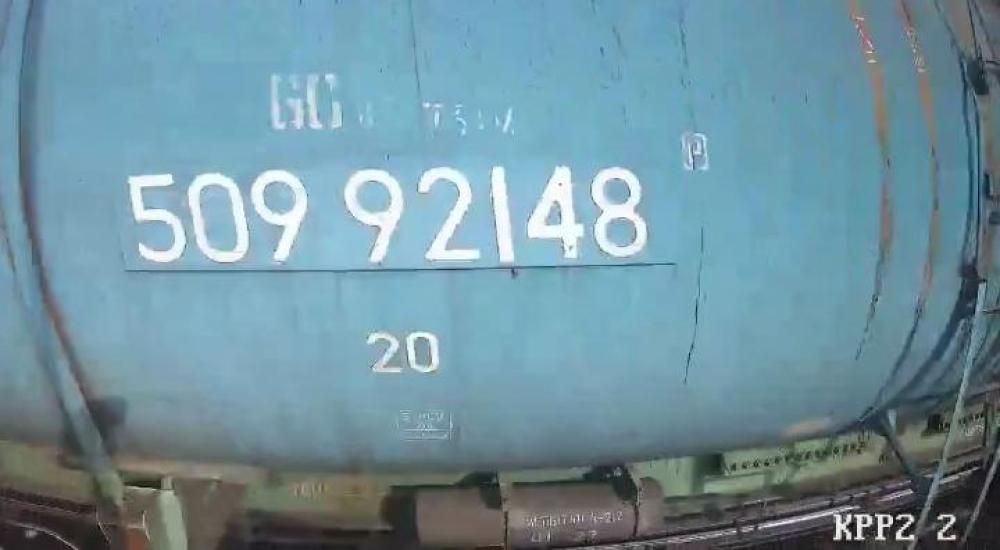Wagon-number: (122, 159, 653, 269)
